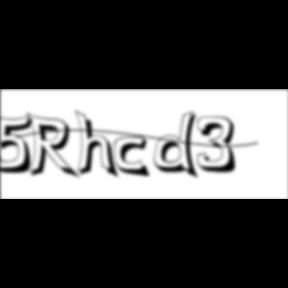3: (197, 116, 243, 176)
5: (1, 114, 40, 176)
R: (26, 112, 83, 182)
c: (115, 136, 155, 180)
d: (154, 110, 204, 182)
h: (76, 108, 122, 182)
